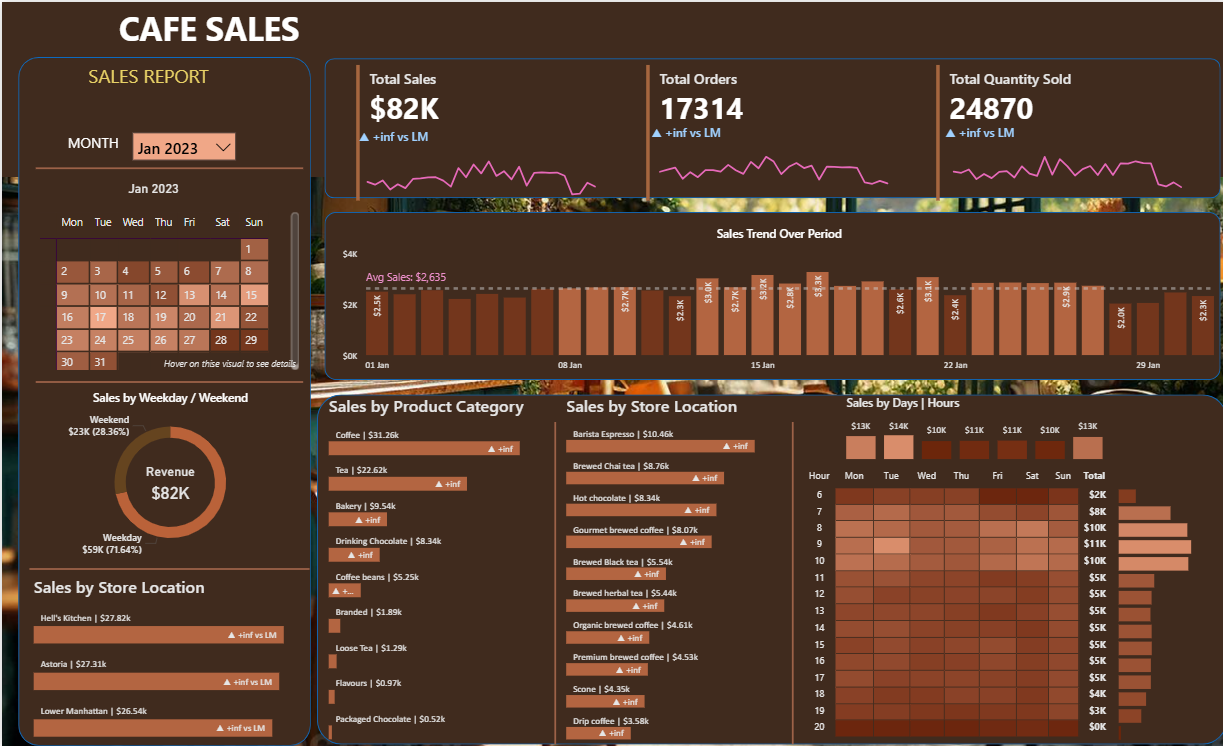

This screenshot's page, from the dashboard's own definition file:
{"tool":"powerbi","page":{"name":"Report","canvas":[1400,850],"ordinal":0},"visuals":[{"type":"cardVisual","fields":{"Data":["Measures_.Total Sales"]},"box":[400,67.1,300,165.7],"z":0,"group":"g1"},{"type":"cardVisual","fields":{"Data":["Measures_.Total Orders"]},"box":[731.4,67.1,300,165.7],"z":0,"group":"g2"},{"type":"cardVisual","fields":{"Data":["Measures_.Total Quantity Sold"]},"box":[1062.9,67.1,300,165.7],"z":0,"group":"g3"},{"type":"shape","box":[360,448,1040,400],"z":0},{"type":"shape","box":[0,0,1400,200],"z":1000},{"type":"lineChart","fields":{"Category":["Date Table.Date Hierarchy.Date"],"Y":["Measures_.Total Orders"]},"box":[736.5,139.8,290,82.9],"z":1000,"group":"g2"},{"type":"lineChart","fields":{"Category":["Date Table.Date Hierarchy.Date"],"Y":["Measures_.Total Quantity Sold"]},"box":[1073.1,139.8,290,82.9],"z":1000,"group":"g3"},{"type":"lineChart","fields":{"Category":["Date Table.Date Hierarchy.Date"],"Y":["Measures_.Total Sales"]},"box":[402.9,144,290,82.9],"z":1000,"group":"g1"},{"type":"shape","box":[18.6,62.9,334.3,787.1],"z":2000},{"type":"shape","box":[368,64,1024,160],"z":3000},{"type":"textbox","box":[128.6,0,291.4,67.1],"z":4000},{"type":"slicer","fields":{"Values":["Date Table.Month Year"]},"box":[144,144,128,48],"z":5000},{"type":"group","id":"g1","title":"Group 1","box":[400,67.1,300,165.7],"z":6000},{"type":"group","id":"g2","title":"Group 1","box":[731.4,67.1,300,165.7],"z":7000},{"type":"group","id":"g3","title":"Group 1","box":[1062.9,67.1,300.2,165.7],"z":8000},{"type":"pivotTable","fields":{"Rows":["Date Table.Week Number"],"Columns":["Date Table.Day Name"],"Values":["Min(Date Table.Day Number)"]},"box":[38.6,235.7,305.7,190],"z":9000},{"type":"card","fields":{"Values":["Min(Date Table.Month Year)"]},"box":[128.6,195.7,90,37.1],"z":10000},{"type":"card","fields":{"Values":["Measures_.Foot Note"]},"box":[118.6,390,284.3,52.9],"z":11000},{"type":"shape","box":[38.6,425.7,305.7,17.1],"z":12000},{"type":"shape","box":[38.6,181.4,305.7,17.1],"z":13000},{"type":"donutChart","title":"Sales by Weekday / Weekend","fields":{"Category":["Date Table.Weekday / Weekend"],"Y":["Measures_.Total Sales"]},"box":[38.6,442.9,308,195],"z":14000},{"type":"card","title":"Revenue","fields":{"Values":["Measures_.Total Sales"]},"box":[128,528,128,48],"z":15000},{"type":"shape","box":[32,640,320,16],"z":16000},{"type":"clusteredBarChart","title":"Sales by Store Location","fields":{"Category":["Transactions.store_location"],"Y":["Measures_.Placeholder","Measures_.Total Sales"]},"box":[32,656,320,192],"z":17000},{"type":"shape","box":[368,240,1024,192],"z":18000},{"type":"columnChart","title":"Sales Trend Over Period","fields":{"Y":["Measures_.Total Sales"],"Category":["Transactions.transaction_date"]},"box":[384,256,1008,176],"z":19000},{"type":"clusteredBarChart","title":"Sales by Product Category","fields":{"Y":["Measures_.Placeholder","Measures_.Total Sales"],"Category":["Transactions.product_category"]},"box":[368,448,256,400],"z":20000},{"type":"shape","box":[624,480,16,368],"z":21000},{"type":"clusteredBarChart","title":"Sales by Store Location","fields":{"Y":["Measures_.Placeholder","Measures_.Total Sales"],"Category":["Transactions.product_type"]},"box":[640,448,256,400],"z":22000},{"type":"shape","box":[896,480,16,368],"z":23000},{"type":"pivotTable","fields":{"Rows":["Transactions.Hour"],"Columns":["Date Table.Day Name"],"Values":["Measures_.Total Sales"]},"box":[912,528,368,320],"z":24000},{"type":"barChart","fields":{"Y":["Measures_.Total Sales"],"Category":["Transactions.Hour"]},"box":[1272,544,128,304],"z":25000},{"type":"columnChart","title":"Sales by Days | Hours","fields":{"Y":["Measures_.Total Sales"],"Category":["Date Table.Day Name"]},"box":[960,448,304,80],"z":26000},{"type":"textbox","box":[64,144,80,32],"z":27000},{"type":"textbox","box":[32,64,272,48],"z":28000}]}

Visuals, with their boxes in screenshot pixels (x1, y1, x2, y2), scaled from the page's 1400x850 canvas onto the 1223x746 screenshot:
cardVisual - Measures_.Total Sales: 349/59/612/204
cardVisual - Measures_.Total Orders: 639/59/901/204
cardVisual - Measures_.Total Quantity Sold: 929/59/1191/204
shape: 314/393/1222/744
shape: 0/0/1222/176
lineChart - Date Table.Date Hierarchy.Date x Measures_.Total Orders: 643/123/897/195
lineChart - Date Table.Date Hierarchy.Date x Measures_.Total Quantity Sold: 937/123/1191/195
lineChart - Date Table.Date Hierarchy.Date x Measures_.Total Sales: 352/126/605/199
shape: 16/55/308/745
shape: 321/56/1216/197
textbox: 112/0/367/59
slicer - Date Table.Month Year: 126/126/238/169
"Group 1" group: 349/59/612/204
"Group 1" group: 639/59/901/204
"Group 1" group: 929/59/1191/204
pivotTable - Date Table.Week Number x Date Table.Day Name: 34/207/301/374
card - Min(Date Table.Month Year): 112/172/191/204
card - Measures_.Foot Note: 104/342/352/389
shape: 34/374/301/389
shape: 34/159/301/174
"Sales by Weekday / Weekend" donutChart: 34/389/303/560
"Revenue" card: 112/463/224/506
shape: 28/562/307/576
"Sales by Store Location" clusteredBarChart: 28/576/307/744
shape: 321/211/1216/379
"Sales Trend Over Period" columnChart: 335/225/1216/379
"Sales by Product Category" clusteredBarChart: 321/393/545/744
shape: 545/421/559/744
"Sales by Store Location" clusteredBarChart: 559/393/783/744
shape: 783/421/797/744
pivotTable - Transactions.Hour x Date Table.Day Name: 797/463/1118/744
barChart - Measures_.Total Sales x Transactions.Hour: 1111/477/1222/744
"Sales by Days | Hours" columnChart: 839/393/1104/463
textbox: 56/126/126/154
textbox: 28/56/266/98
